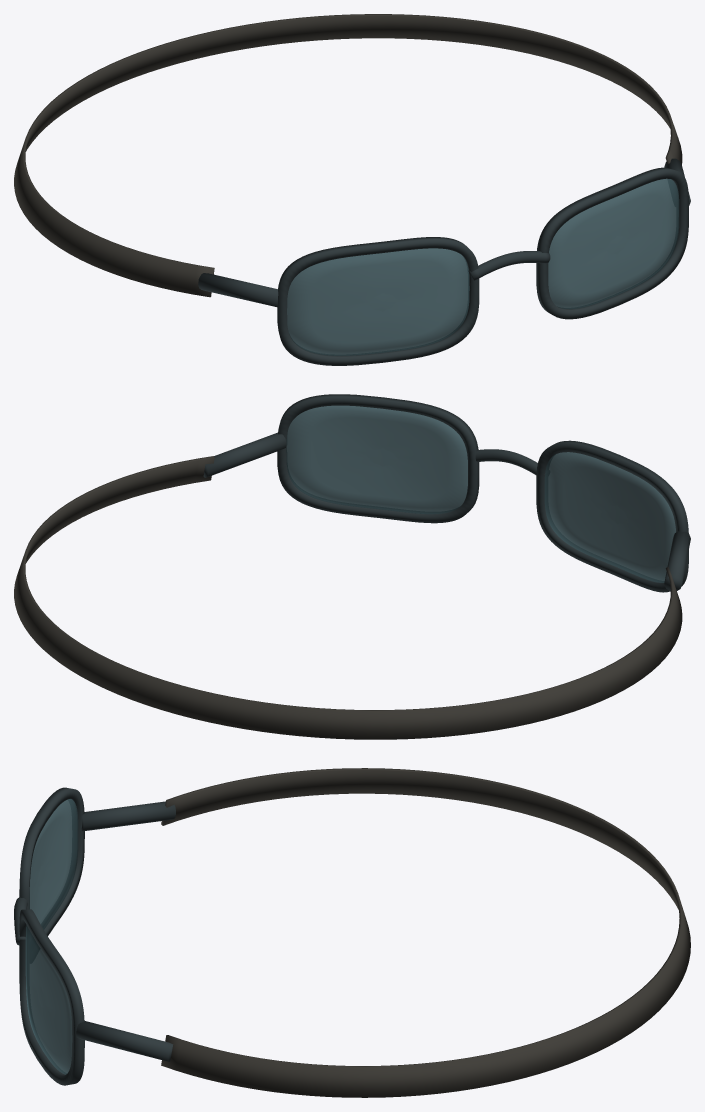
File: goose-face-raised-goggles.glb
The picture shows the model from 3 angles, top to bottom: view 1: azimuth 30°, elevation 25°; view 2: azimuth 150°, elevation 25°; view 3: azimuth 270°, elevation 25°; orthographic projection. The views are drawn at different scales.
Visible parts, largest first — view 1: goose_face_raised_goggles_mesh; view 2: goose_face_raised_goggles_mesh; view 3: goose_face_raised_goggles_mesh.
Boxes of the visible parts, x1=… form: goose_face_raised_goggles_mesh: x1=14, y1=14, x2=690, y2=365; goose_face_raised_goggles_mesh: x1=14, y1=394, x2=690, y2=739; goose_face_raised_goggles_mesh: x1=14, y1=768, x2=690, y2=1097.
Size of the model in its own units: 0.9096 by 0.172 by 0.8495.
